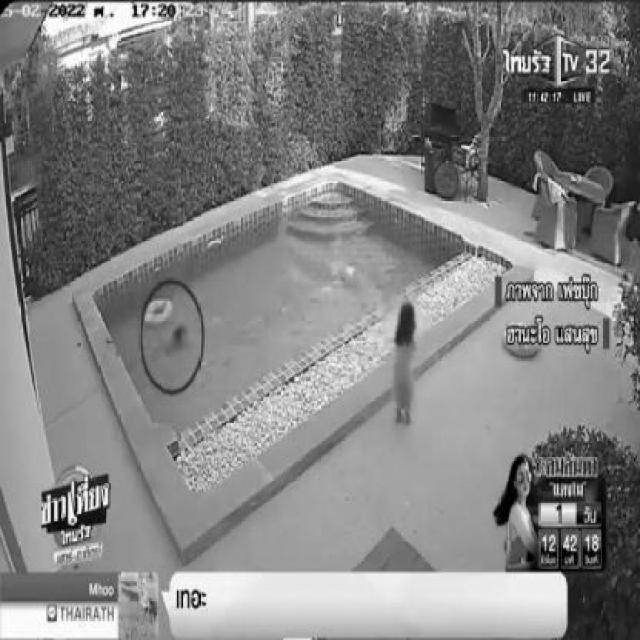drowning: (148, 324, 194, 362)
